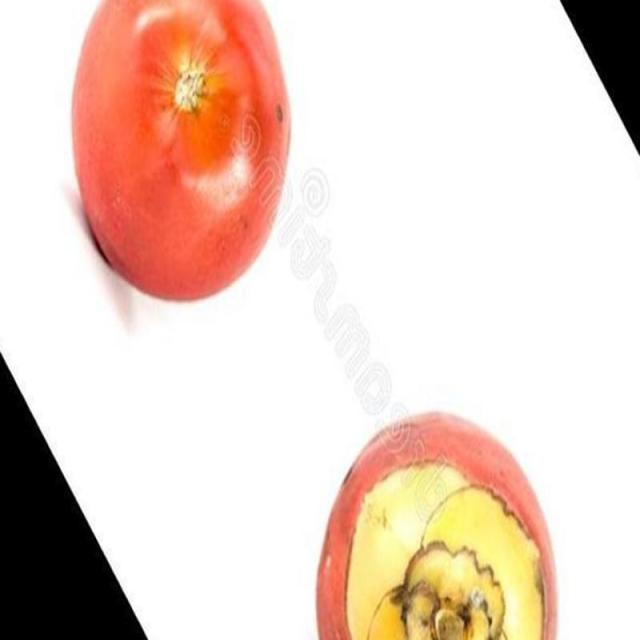good: (70, 0, 291, 305), (315, 412, 560, 639)
